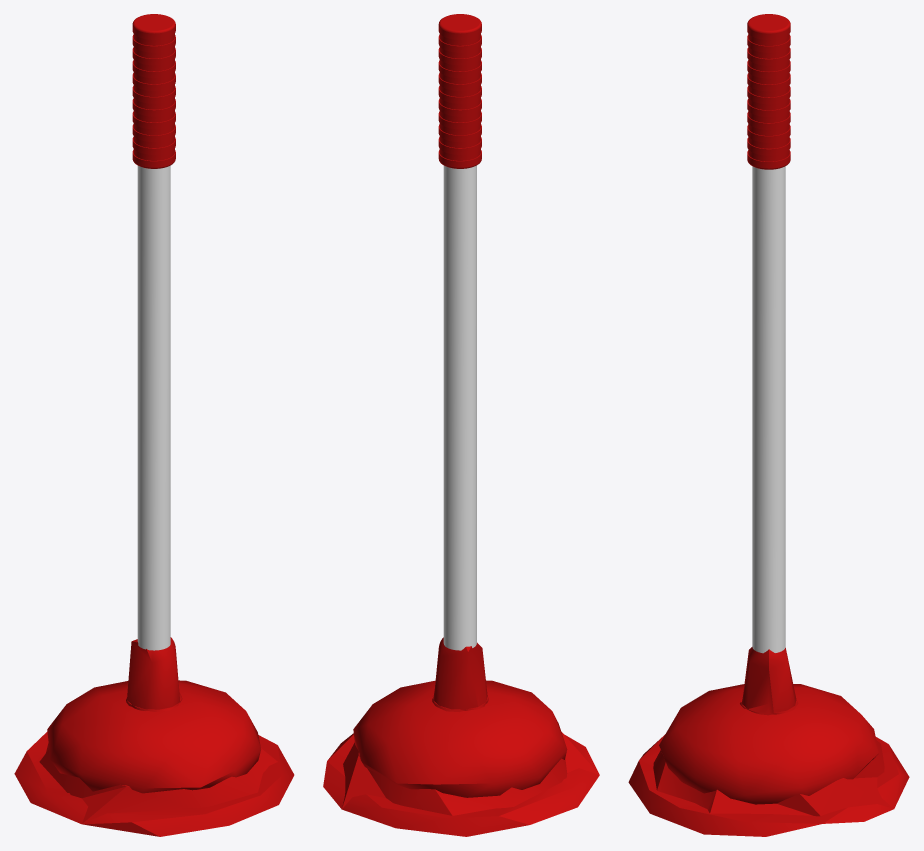
The model's file is 马桶塞子3.fbx.
3 renders of one model, left to right at view 1: azimuth 30°, elevation 25°; view 2: azimuth 150°, elevation 25°; view 3: azimuth 270°, elevation 25°, orthographic.
Visible parts, largest first — view 1: 减面_1, 圆柱_2; view 2: 减面_1, 圆柱_2; view 3: 减面_1, 圆柱_2.
Boxes of the visible parts, <box> form: 减面_1: <box>14,637,294,836</box>; 圆柱_2: <box>132,14,175,650</box>; 减面_1: <box>323,637,599,836</box>; 圆柱_2: <box>438,14,481,650</box>; 减面_1: <box>628,647,909,836</box>; 圆柱_2: <box>747,14,790,653</box>.
Bounding box in the file's own units: 101 × 302 × 101.
